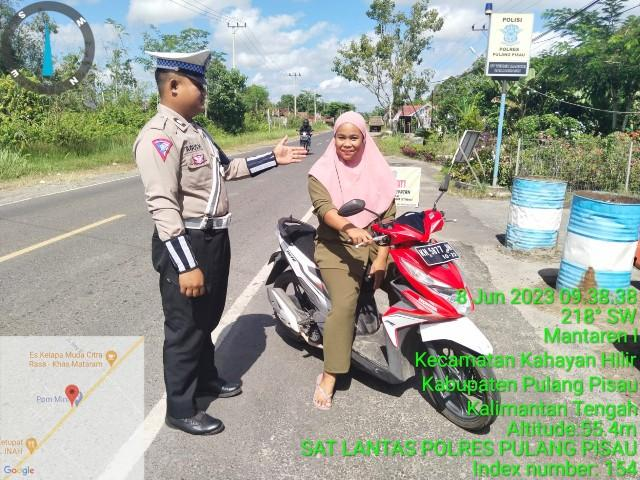motor: (268, 197, 507, 436)
non-helm: (332, 109, 371, 170)
